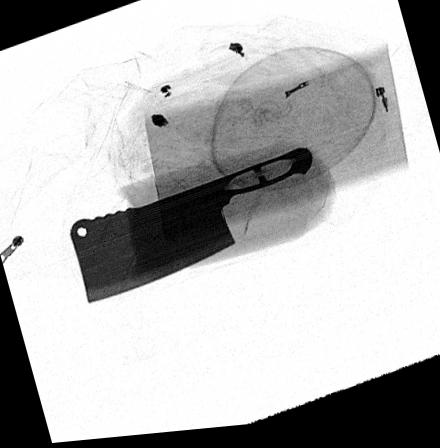Knife: (70, 152, 313, 305)
